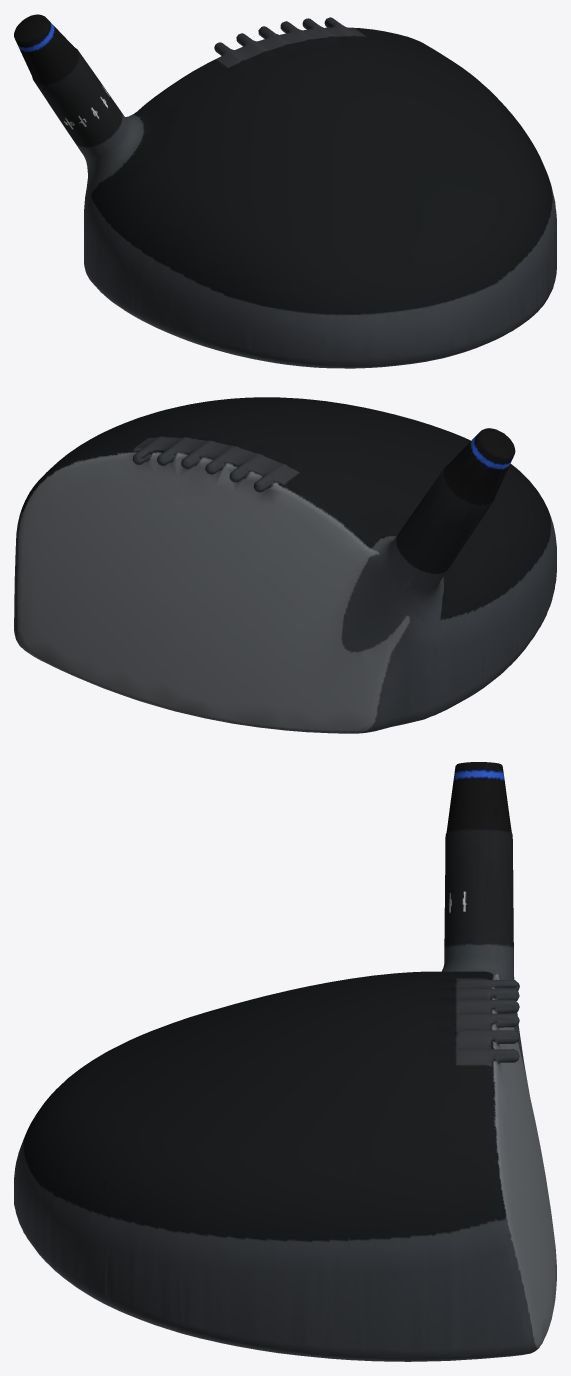
3 renders of one model, top to bottom at view 1: azimuth 30°, elevation 25°; view 2: azimuth 150°, elevation 25°; view 3: azimuth 270°, elevation 25°, orthographic. The views are drawn at different scales.
Parts seen in each view (by area): view 1: head; view 2: head; view 3: head.
Boxes of the visible parts, x1=… form: head: x1=14, y1=14, x2=556, y2=368; head: x1=14, y1=397, x2=556, y2=733; head: x1=14, y1=762, x2=556, y2=1361.
Bounding box in the file's own units: 0.1341 × 0.0836 × 0.1114.
Materials: 1 (1 with a texture image).
